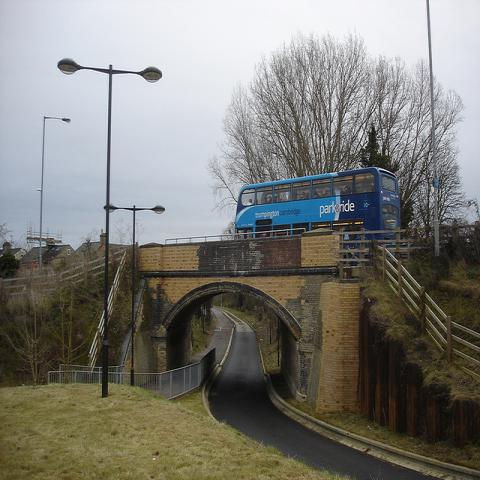bus: (233, 164, 401, 239)
